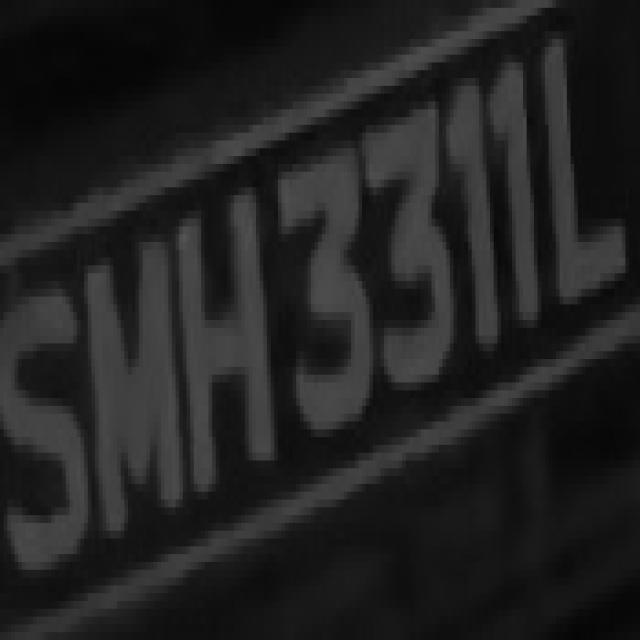1: (439, 62, 501, 398), (490, 39, 545, 367)
3: (337, 117, 468, 414), (267, 133, 380, 437)
H: (157, 188, 271, 508)
L: (542, 23, 626, 336)
M: (77, 211, 186, 538)
S: (4, 258, 80, 593)
